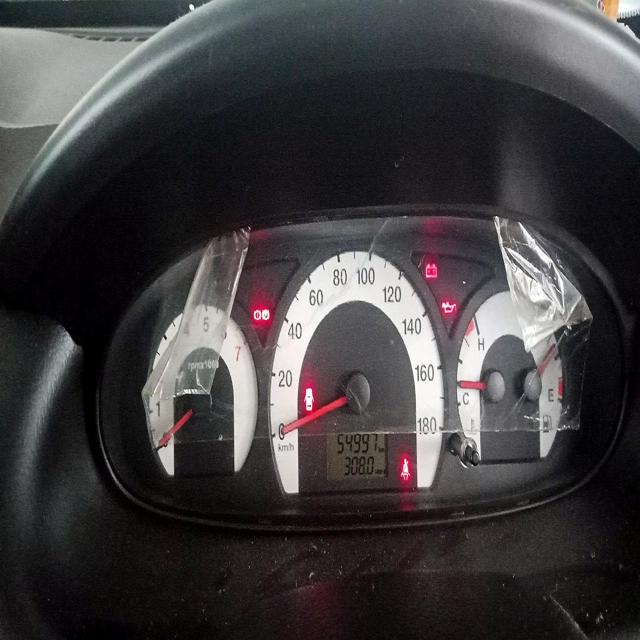odometer: (336, 431, 379, 458)
